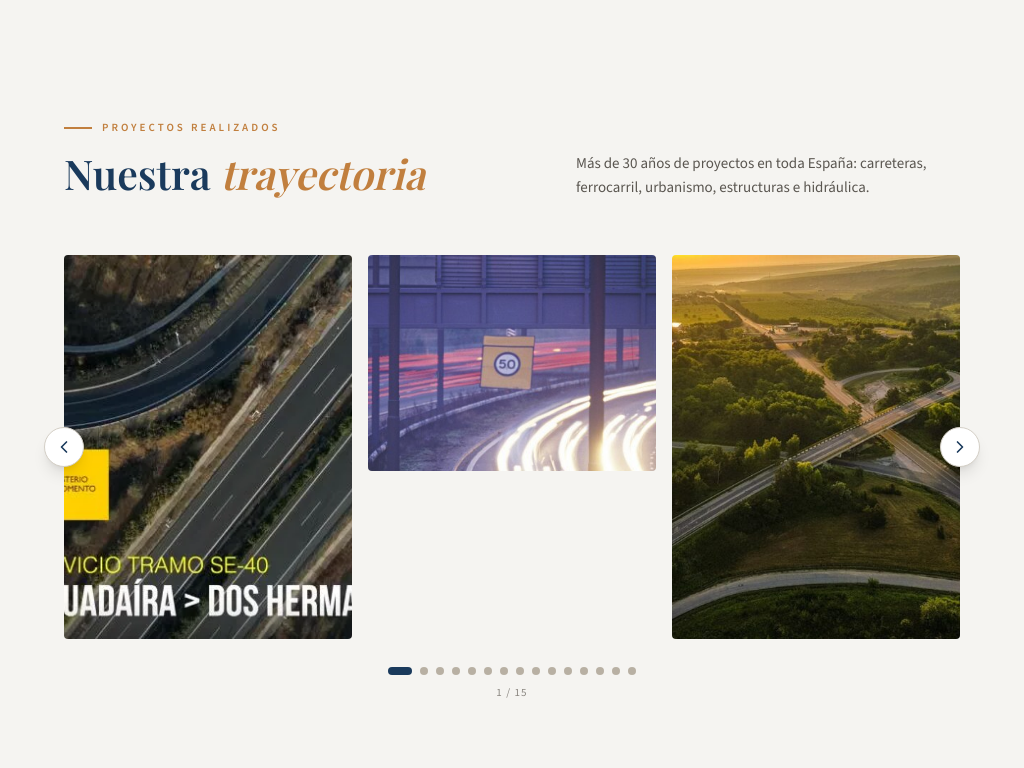
Test: Gallery › clicking a dot navigates to that photo
What coordinates should you click on to do the following:
click the button named "ir a imagen"
I would click on:
 (472, 671)
Its box is [468, 667, 476, 675].
Wait 300 ms
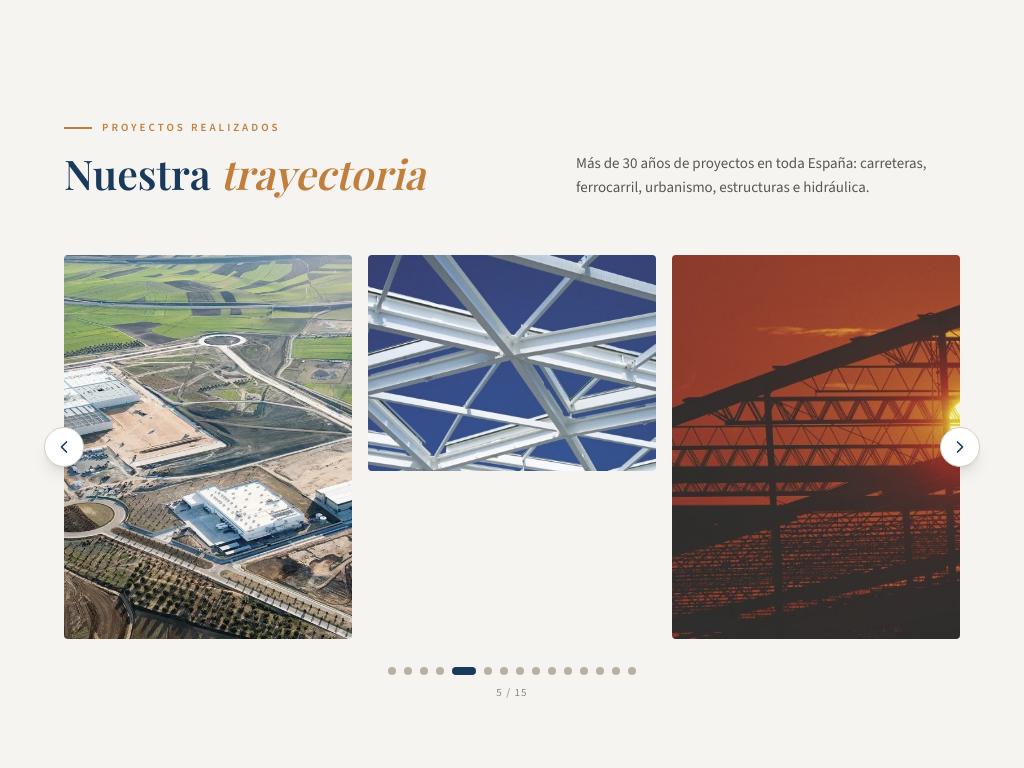
Expected: the text "5 / 15" is shown, [496, 685, 528, 700]
